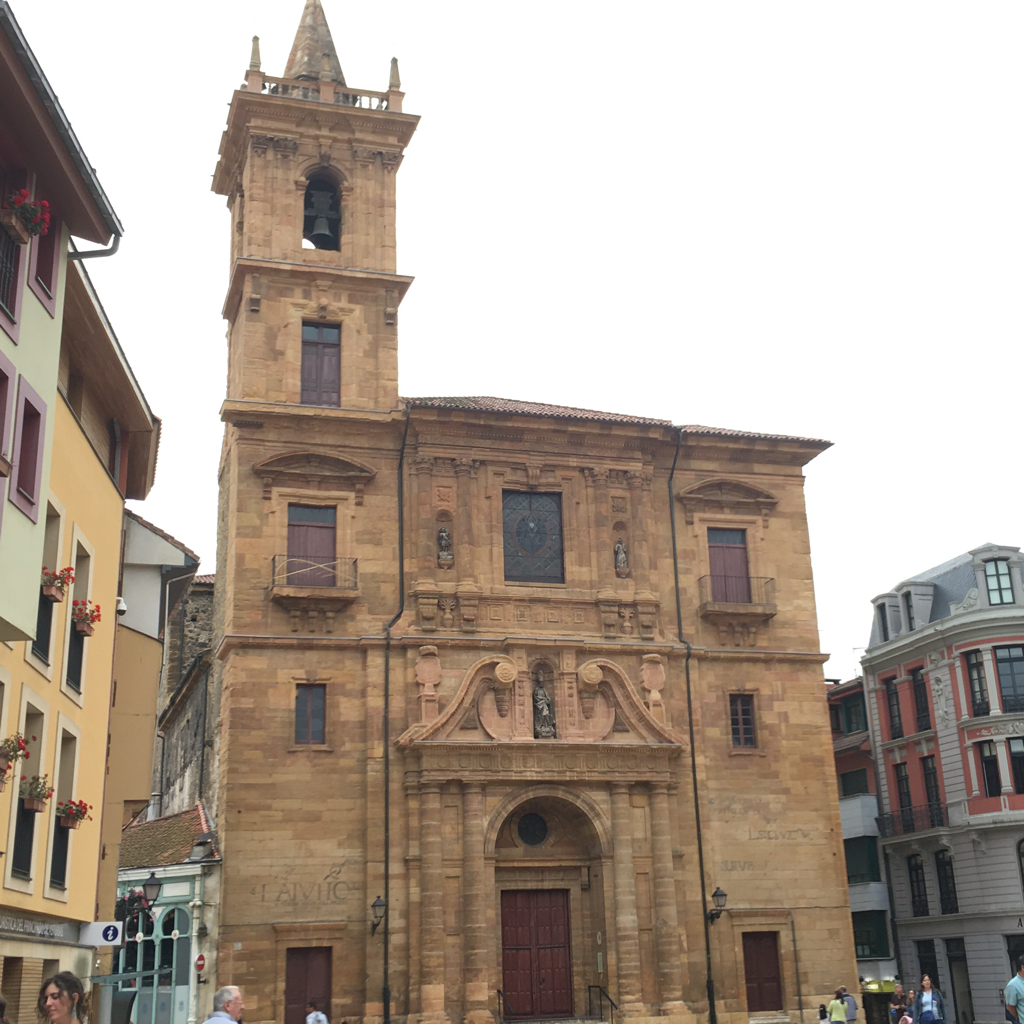arco-medio-punto: (486, 791, 613, 863), (297, 158, 352, 200)
fronton-curvo: (253, 448, 375, 484), (680, 475, 772, 510)
fronton-partido: (401, 651, 688, 755)
vano-adintelado: (485, 862, 597, 1016), (488, 479, 576, 590), (270, 487, 348, 590), (732, 920, 792, 1024), (696, 511, 763, 604), (293, 310, 352, 411), (278, 939, 336, 1024)
